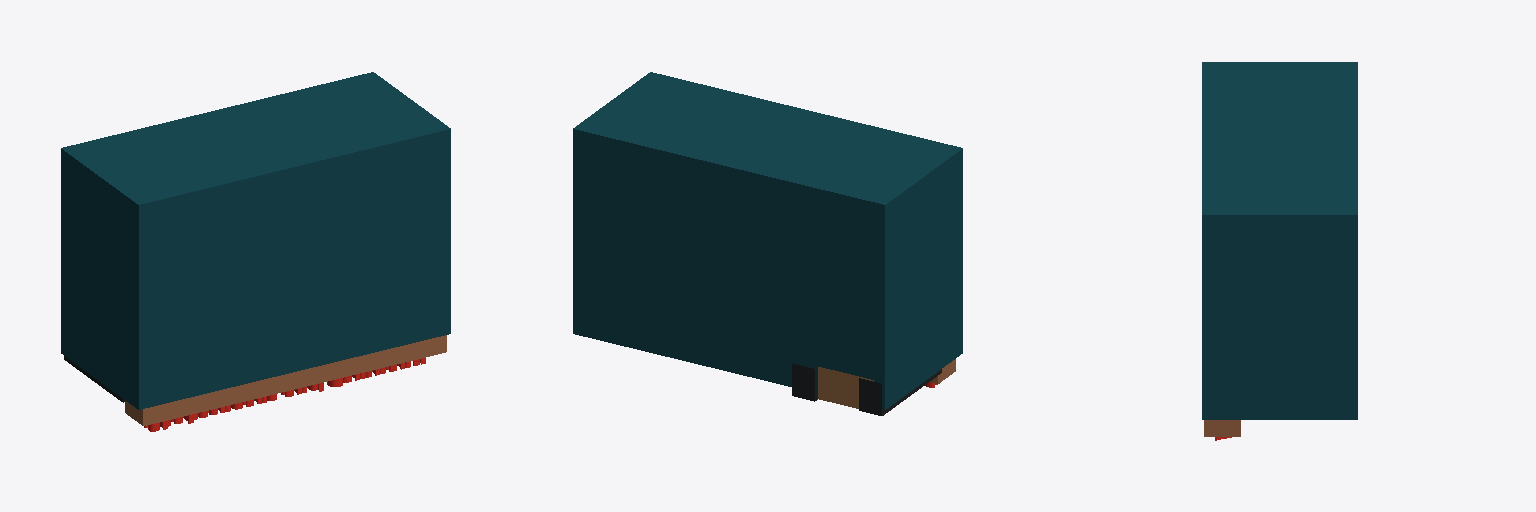
Rendered from tinker.obj.
The picture shows the model from 3 angles: view 1: azimuth 30°, elevation 25°; view 2: azimuth 150°, elevation 25°; view 3: azimuth 270°, elevation 25°; orthographic projection.
Parts seen in each view (by area): view 1: obj_0; view 2: obj_0; view 3: obj_0.
Boxes of the visible parts, <box> form: obj_0: <box>61,72,450,431</box>; obj_0: <box>573,72,962,415</box>; obj_0: <box>1202,62,1357,440</box>.
Size of the model in its own units: 200 by 144 by 86.26.